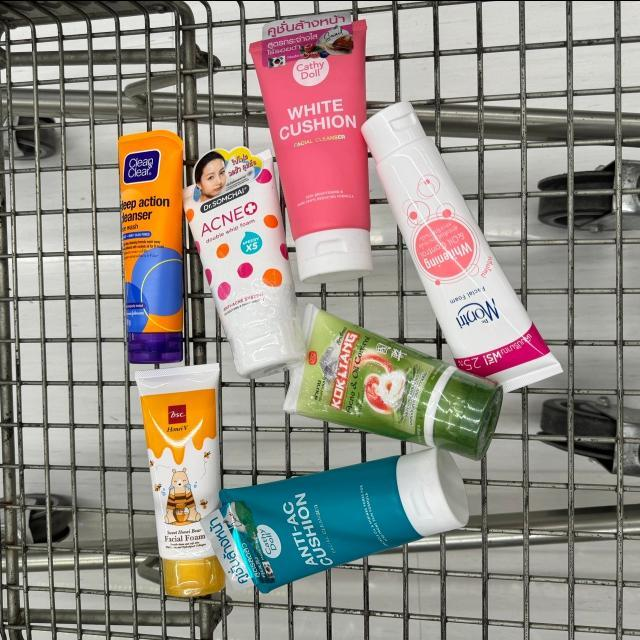Squeeze Tube: (353, 99, 570, 383), (220, 442, 468, 591), (276, 302, 502, 459), (253, 20, 372, 286), (191, 147, 318, 380), (140, 366, 229, 594), (115, 128, 186, 359)
